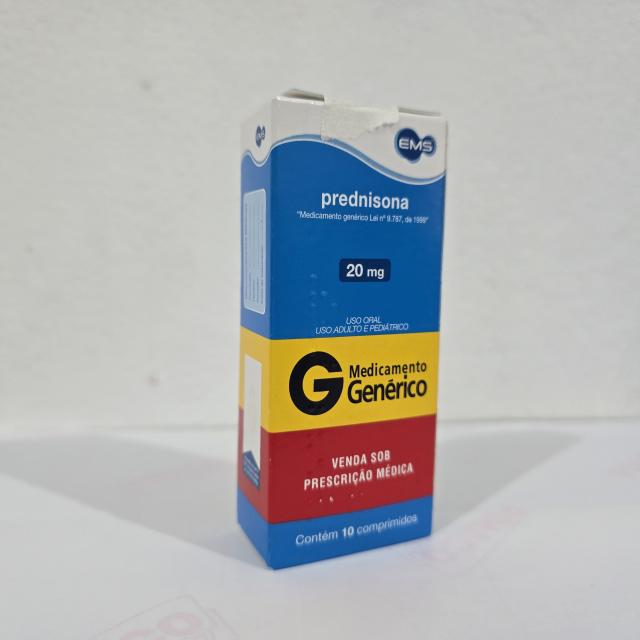prednisona: (233, 84, 452, 576)
